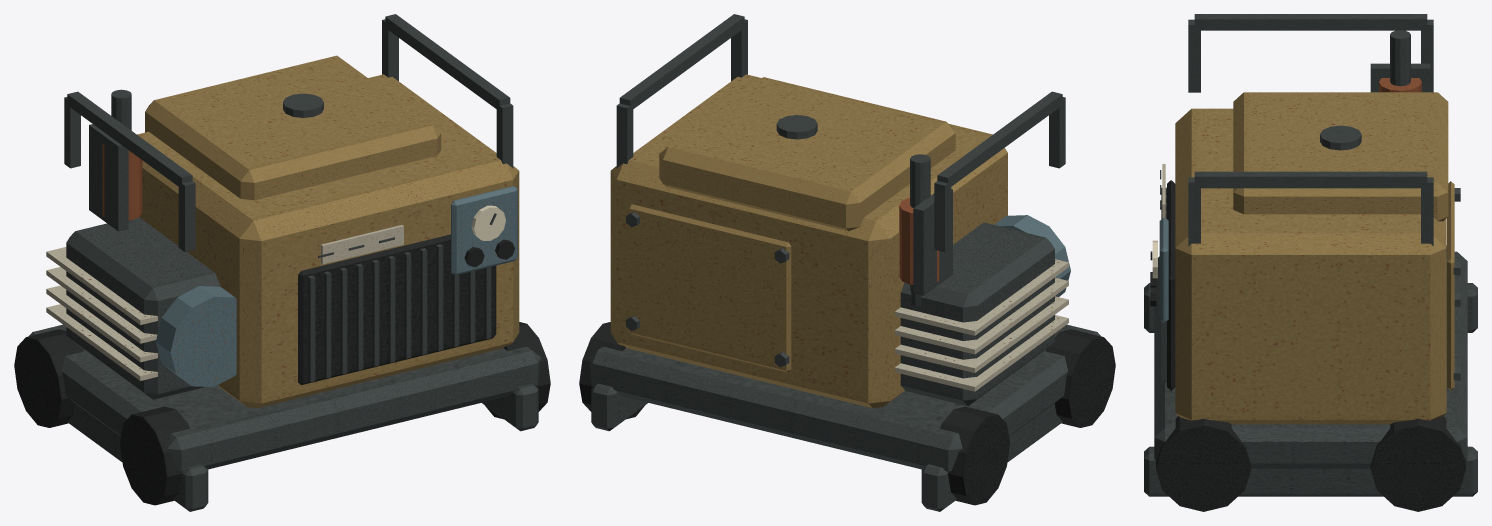
File: CompactGenerator.fbx
3 renders of one model, left to right at view 1: azimuth 30°, elevation 25°; view 2: azimuth 150°, elevation 25°; view 3: azimuth 270°, elevation 25°, orthographic.
Parts seen in each view (by area): view 1: CompactGenerator; view 2: CompactGenerator; view 3: CompactGenerator.
Boxes of the visible parts, x1,y1,x2,y2 form: CompactGenerator: (14,14,550,511); CompactGenerator: (579,14,1115,511); CompactGenerator: (1144,14,1477,511).
Bounding box in the file's own units: 151 × 120 × 112.
Materials: 1 (1 with a texture image).
